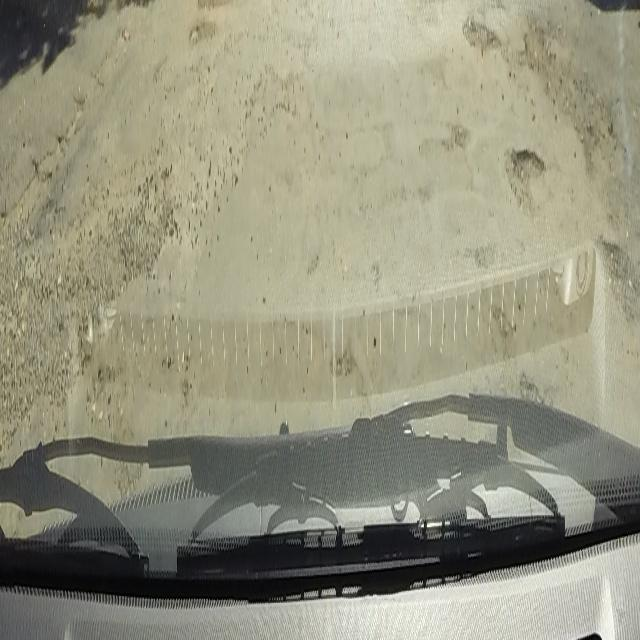pothole: (569, 89, 629, 182), (598, 232, 640, 331), (460, 9, 500, 52), (523, 24, 551, 74), (509, 142, 545, 177), (188, 24, 200, 41)
